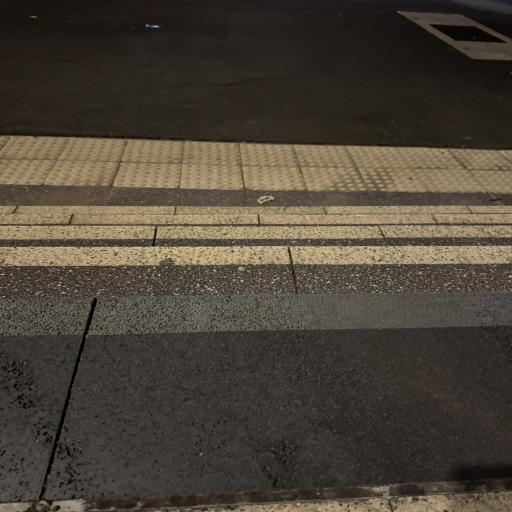stairs: (0, 206, 512, 270)
